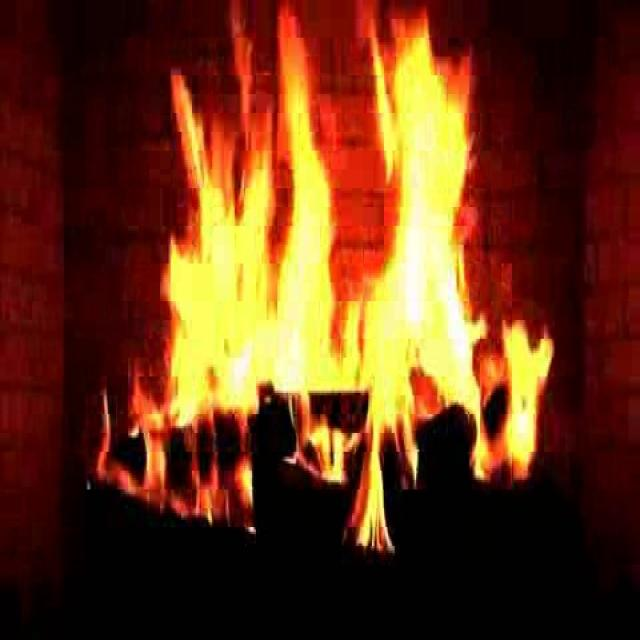Fire: (87, 9, 559, 571)
